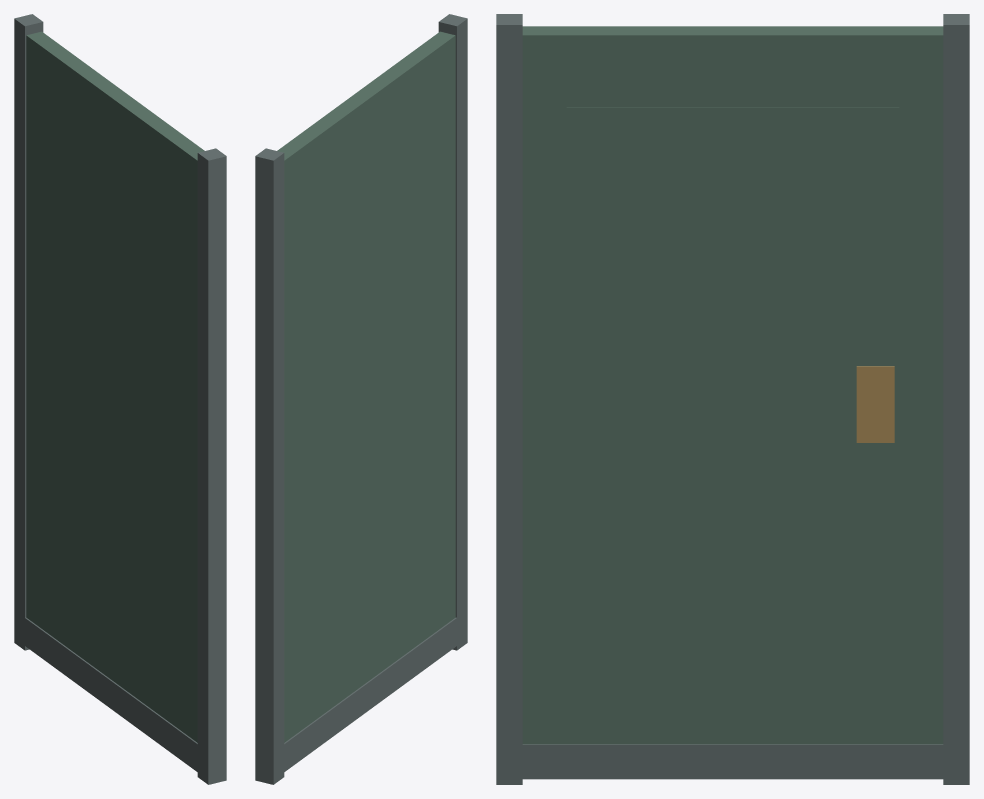
Rendered from LP_Toilet_WestDoorOpen.fbx.
3 views of the same model, side by side, from view 1: azimuth 30°, elevation 25°; view 2: azimuth 150°, elevation 25°; view 3: azimuth 270°, elevation 25° (orthographic). The views are drawn at different scales.
Visible parts, largest first — view 1: SageUpholstery, M_Museum_BrushedMetal; view 2: SageUpholstery, M_Museum_BrushedMetal; view 3: SageUpholstery, M_Museum_BrushedMetal, AgedBrass.
Part boxes in pixels (bbox=[...]): SageUpholstery: bbox=[26, 31, 204, 742]; M_Museum_BrushedMetal: bbox=[14, 14, 226, 784]; SageUpholstery: bbox=[277, 31, 455, 742]; M_Museum_BrushedMetal: bbox=[255, 14, 467, 784]; SageUpholstery: bbox=[522, 26, 943, 744]; M_Museum_BrushedMetal: bbox=[496, 14, 969, 784]; AgedBrass: bbox=[856, 366, 894, 442].
Bounding box in the file's own units: 6 × 195 × 110.
